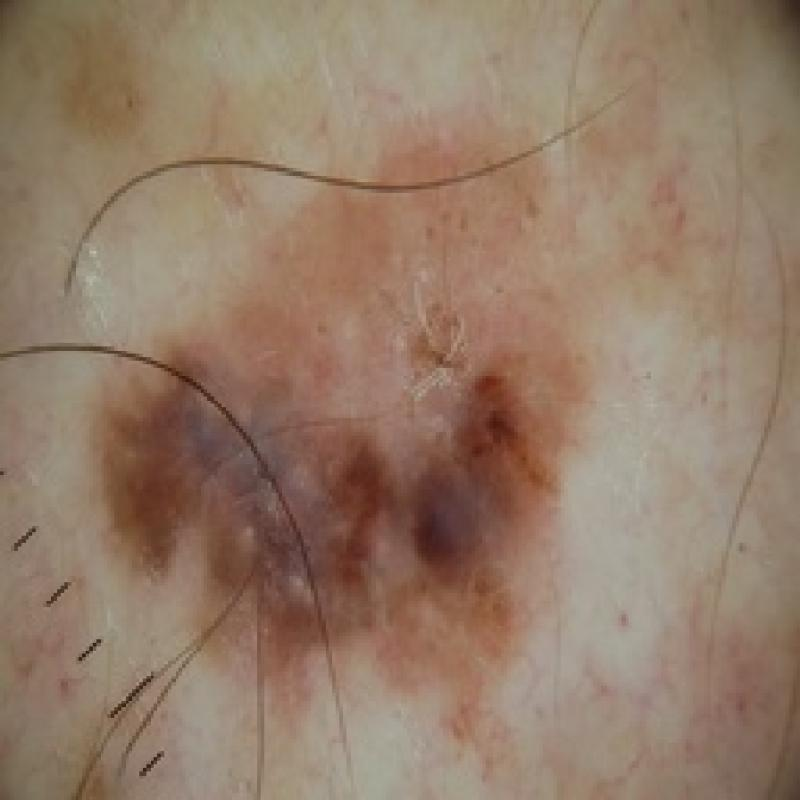malignant: (80, 104, 616, 739)
